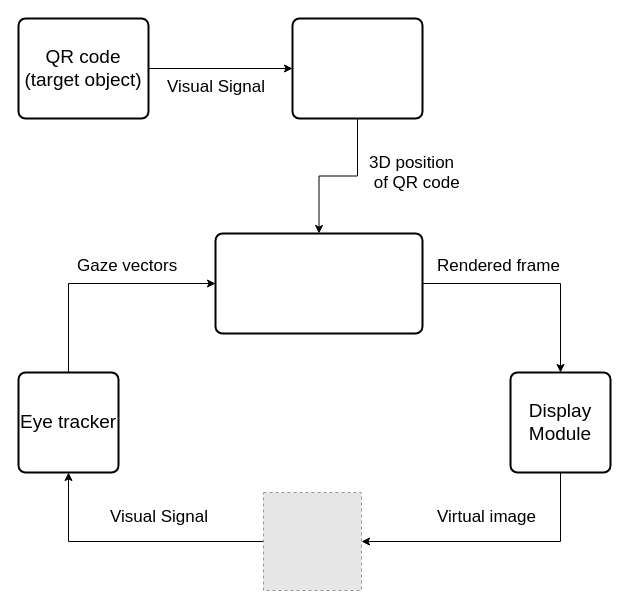
This 628x608 diagram has some shape labels left out. Grey dashed boxes stand in for pictures. Each missing label, with the centre of its shape:
"Stereo vision System" goes at pixel 357 68.
"Unity scene" goes at pixel 318 283.
